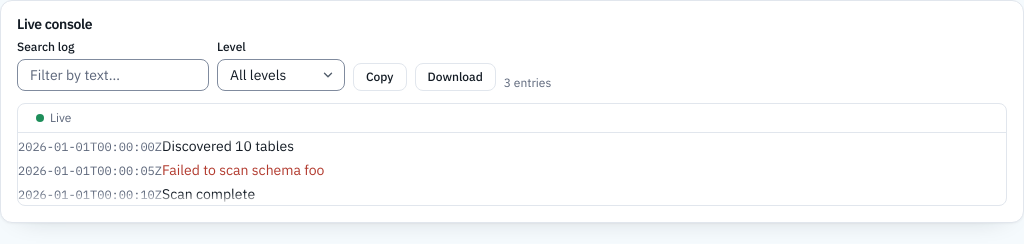
Test: ConsoleShell log controls › filters log entries by search text and reports the visible/hidden count
Type "schema foo" into the search field labelled "Search log". click: (113, 75)
box: x1=17 y1=59 x2=209 y2=91
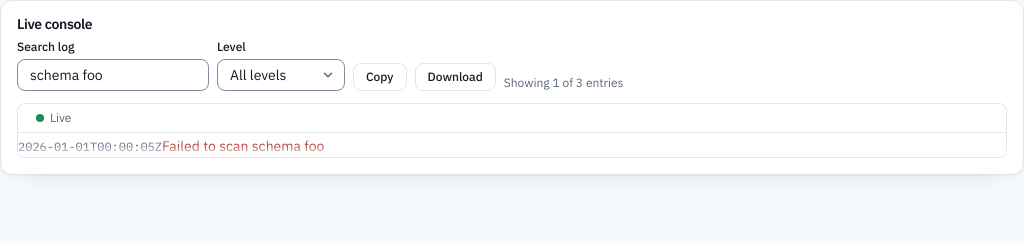
Expected: the text "Failed to scan schema foo" is shown, x1=162 y1=137 x2=324 y2=155
Expected: the text "Showing 1 of 3 entries" is shown, x1=504 y1=75 x2=623 y2=91
Expected: the text "Scan complete" is gone
